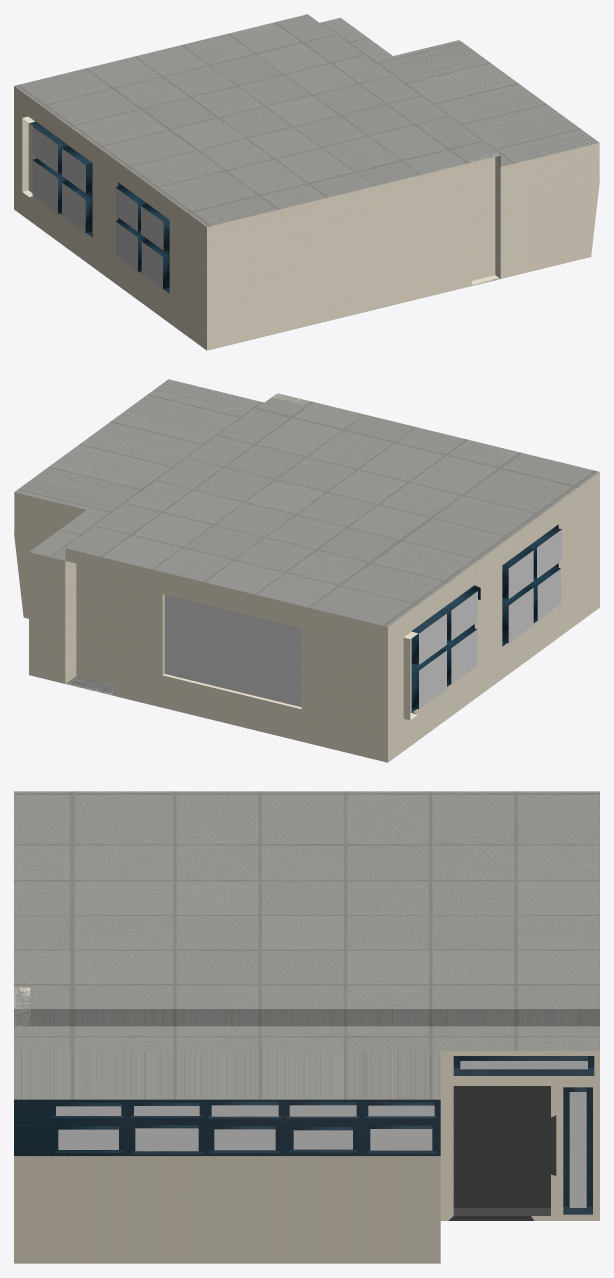
Rendered from AulaConTexturas (1).fbx.
3 views of the same model, one above another, from view 1: azimuth 30°, elevation 25°; view 2: azimuth 150°, elevation 25°; view 3: azimuth 270°, elevation 25° (orthographic). The views are drawn at different scales.
Parts seen in each view (by area): view 1: Techo, Paredes, Vidrios, MarcoVentanas; view 2: Techo, Paredes, Pizarron, Vidrios, MarcoVentanas; view 3: Techo, Paredes, MarcoVentanaSup, Vidrios, Puerta, MarcoPuerta2, MarcoPuerta1.
Boxes of the visible parts, <box> form: Techo: <box>14,14,599,226</box>; Paredes: <box>14,86,599,350</box>; Vidrios: <box>32,126,163,288</box>; MarcoVentanas: <box>30,121,169,293</box>; Techo: <box>14,379,599,626</box>; Paredes: <box>14,393,599,762</box>; Pizarron: <box>164,595,301,707</box>; Vidrios: <box>419,529,561,708</box>; MarcoVentanas: <box>411,524,561,714</box>; Techo: <box>14,791,599,1099</box>; Paredes: <box>14,987,599,1263</box>; MarcoVentanaSup: <box>14,1099,440,1156</box>; Vidrios: <box>56,1061,587,1207</box>; Puerta: <box>448,1086,556,1220</box>; MarcoPuerta2: <box>563,1087,592,1214</box>; MarcoPuerta1: <box>453,1056,594,1075</box>.
Size of the model in its own units: 3169 by 936 by 2650.
